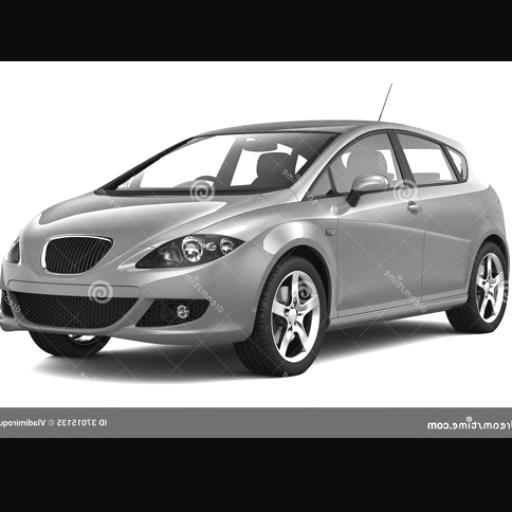hatchback: (0, 121, 508, 375)
